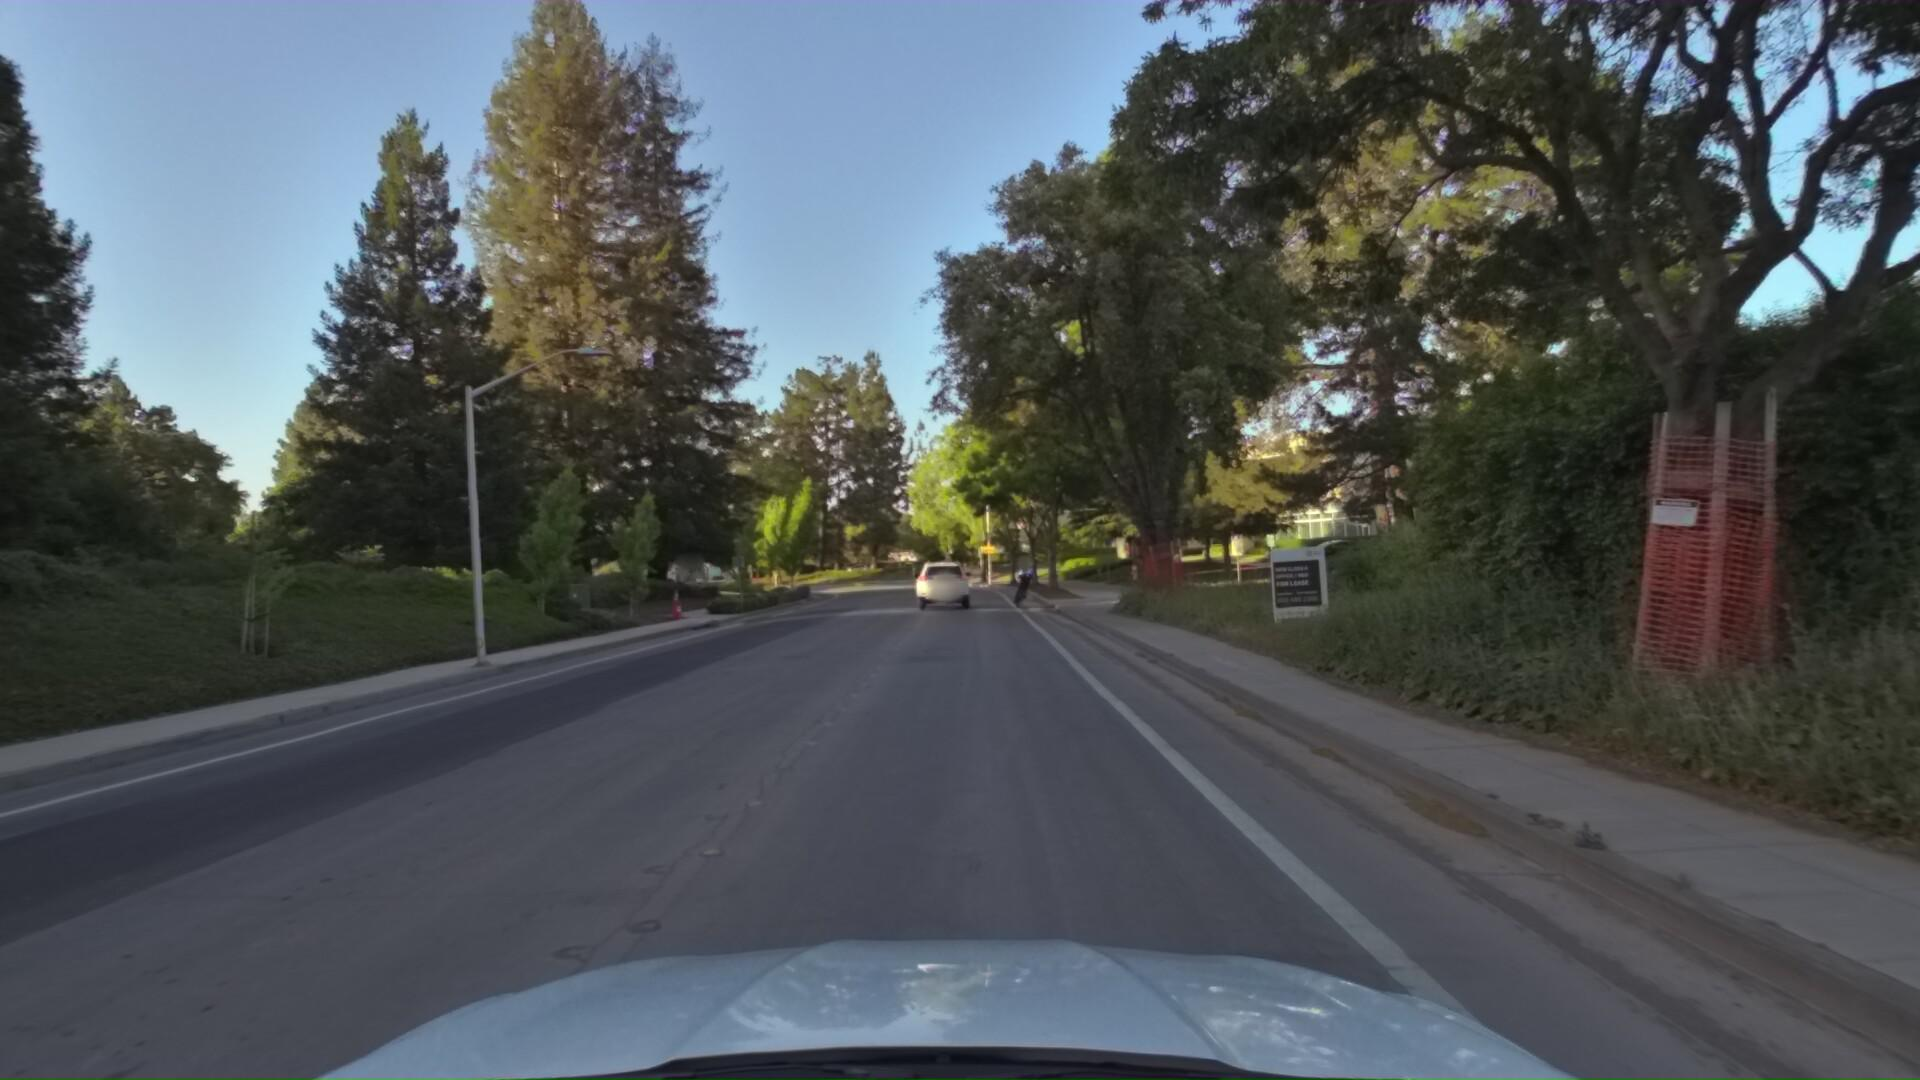bicycle: (1000, 556, 1048, 611)
car: (910, 556, 973, 615)
